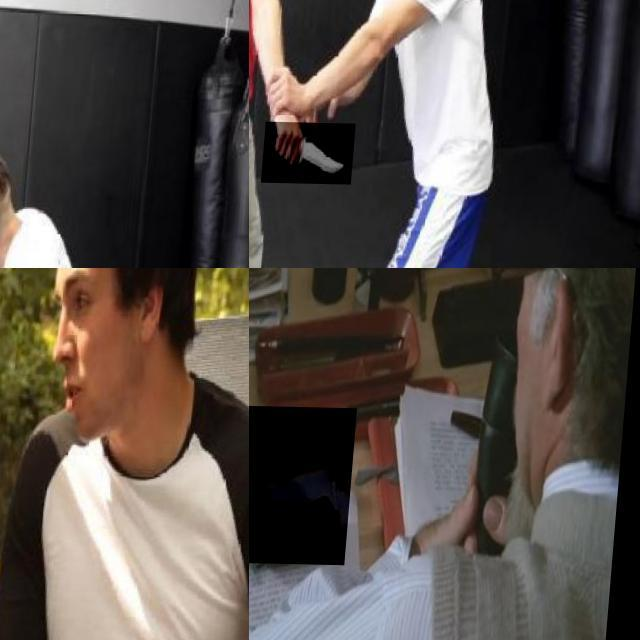-: (270, 120, 362, 182)
gun-knife-thesis - v11 Yolov5 augmented: (249, 403, 362, 563)
